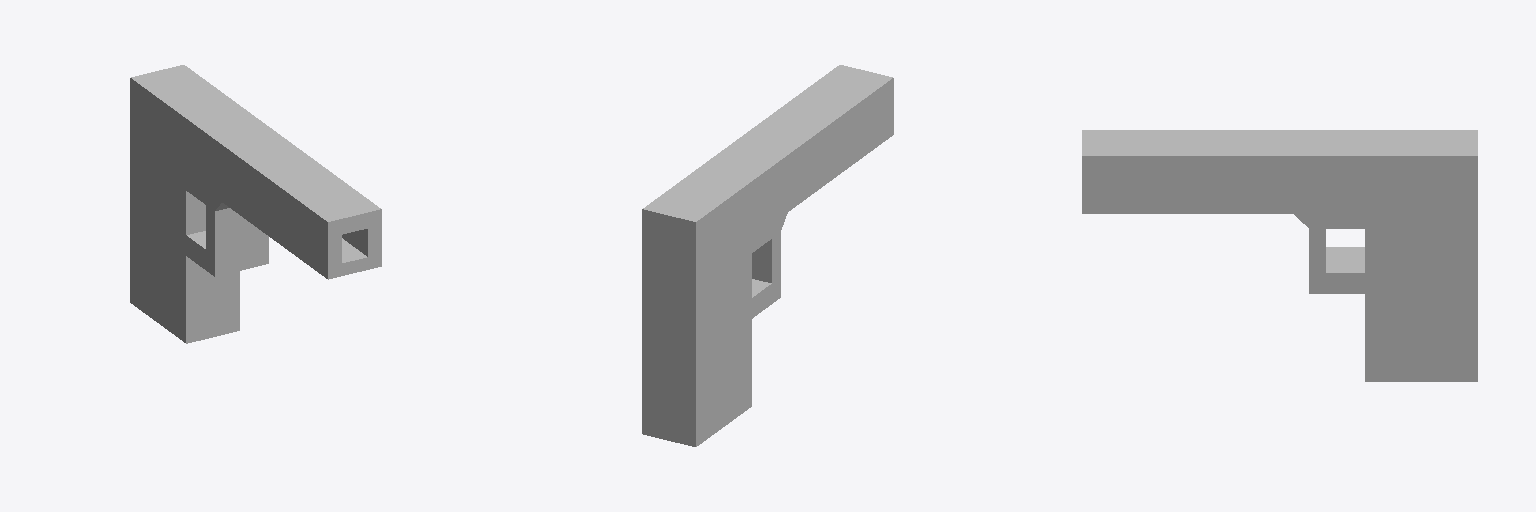
Rendered from Pistol.obj.
3 renders of one model, left to right at view 1: azimuth 30°, elevation 25°; view 2: azimuth 150°, elevation 25°; view 3: azimuth 270°, elevation 25°, orthographic.
Visible parts, largest first — view 1: pCube1; view 2: pCube1; view 3: pCube1.
Part boxes in pixels (bbox=[...]): pCube1: bbox=[130, 65, 381, 343]; pCube1: bbox=[642, 65, 893, 446]; pCube1: bbox=[1082, 130, 1477, 381].
Bounding box in the file's own units: 1.92 × 7.7 × 12.25.